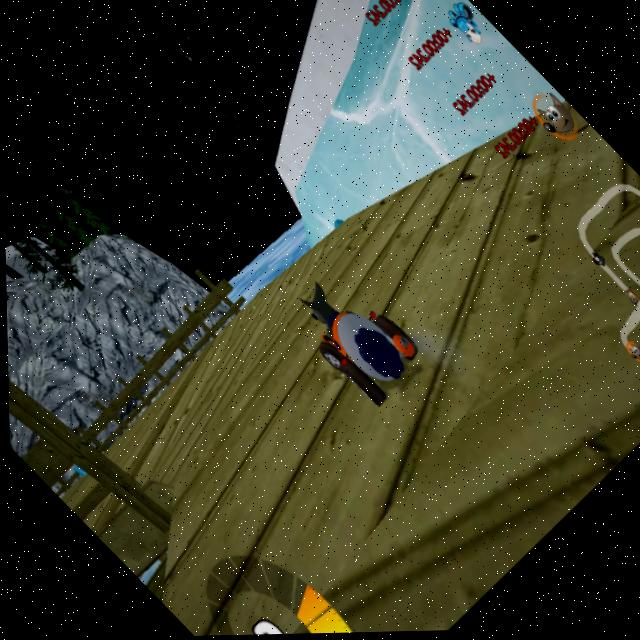off_track: (137, 13, 443, 313)
player_kart: (277, 253, 443, 423)
track: (107, 296, 400, 588), (354, 167, 582, 398)
